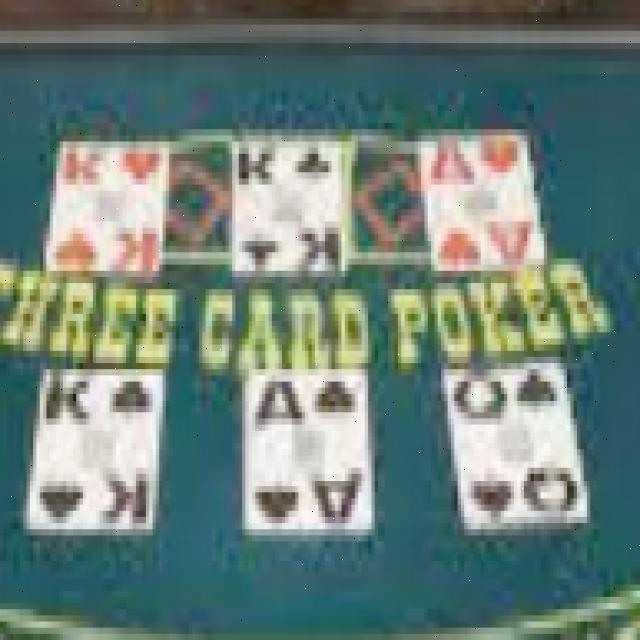Card-A: (246, 369, 369, 530), (418, 128, 546, 267)
Card-K: (28, 365, 162, 530), (49, 138, 169, 275), (233, 135, 342, 271)
Card-Q: (444, 359, 589, 531)
